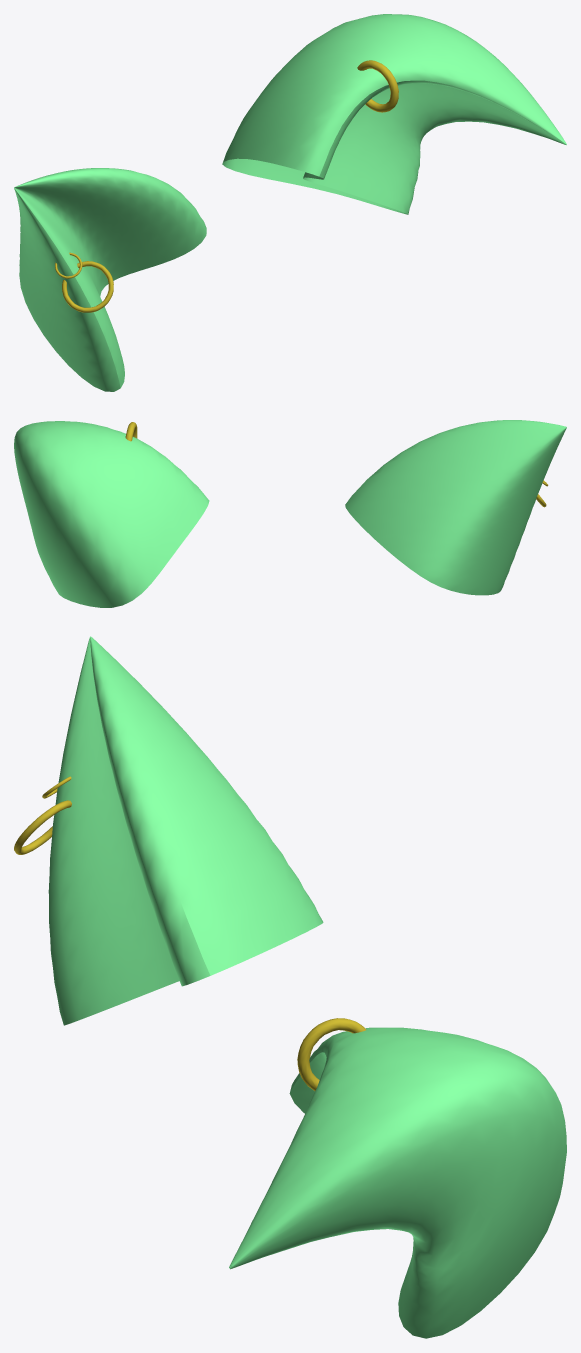
The picture shows the model from 3 angles, top to bottom: view 1: azimuth 30°, elevation 25°; view 2: azimuth 150°, elevation 25°; view 3: azimuth 270°, elevation 25°; orthographic projection. The views are drawn at different scales.
Visible parts, largest first — view 1: 325, ear_rings; view 2: 325, ear_rings; view 3: 325, ear_rings.
Boxes of the visible parts, x1,y1,x2,y2 form: 325: [14, 14, 566, 391]; ear_rings: [55, 60, 398, 312]; 325: [14, 420, 566, 607]; ear_rings: [125, 422, 548, 507]; 325: [48, 636, 566, 1338]; ear_rings: [14, 776, 366, 1090].
Bounding box in the file's own units: 97.07 × 52.8 × 36.09.
